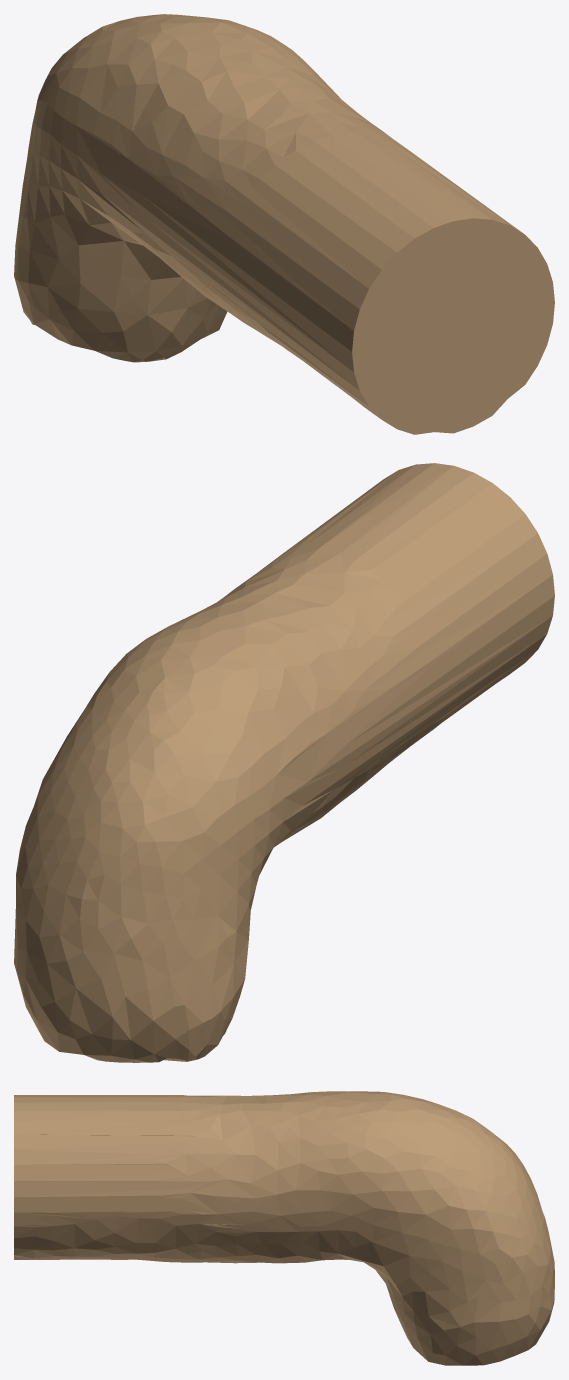
Rendered from Nozzle.glb.
The picture shows the model from 3 angles, top to bottom: view 1: azimuth 30°, elevation 25°; view 2: azimuth 150°, elevation 25°; view 3: azimuth 270°, elevation 25°; orthographic projection. The views are drawn at different scales.
Visible parts, largest first — view 1: Cylinder; view 2: Cylinder; view 3: Cylinder.
Part boxes in pixels (x1,y1,x2,y2): Cylinder: (14,14,554,434); Cylinder: (14,463,554,1062); Cylinder: (14,1091,554,1365).
Size of the model in its own units: 0.6106 by 0.9946 by 1.95.
1 material, 1 textured.
